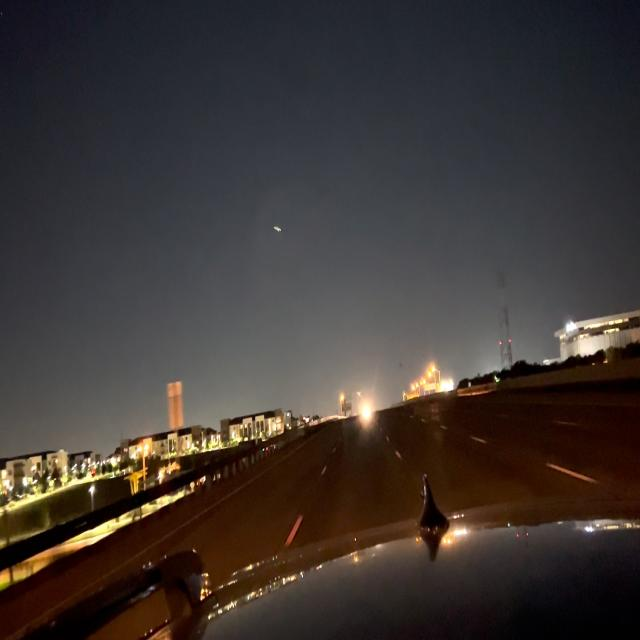back-of-sign: (167, 378, 182, 435)
